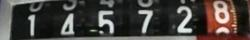digits: (97, 7, 117, 35), (211, 0, 231, 27), (176, 5, 192, 32), (137, 9, 154, 33), (60, 12, 74, 35), (27, 14, 35, 35)
